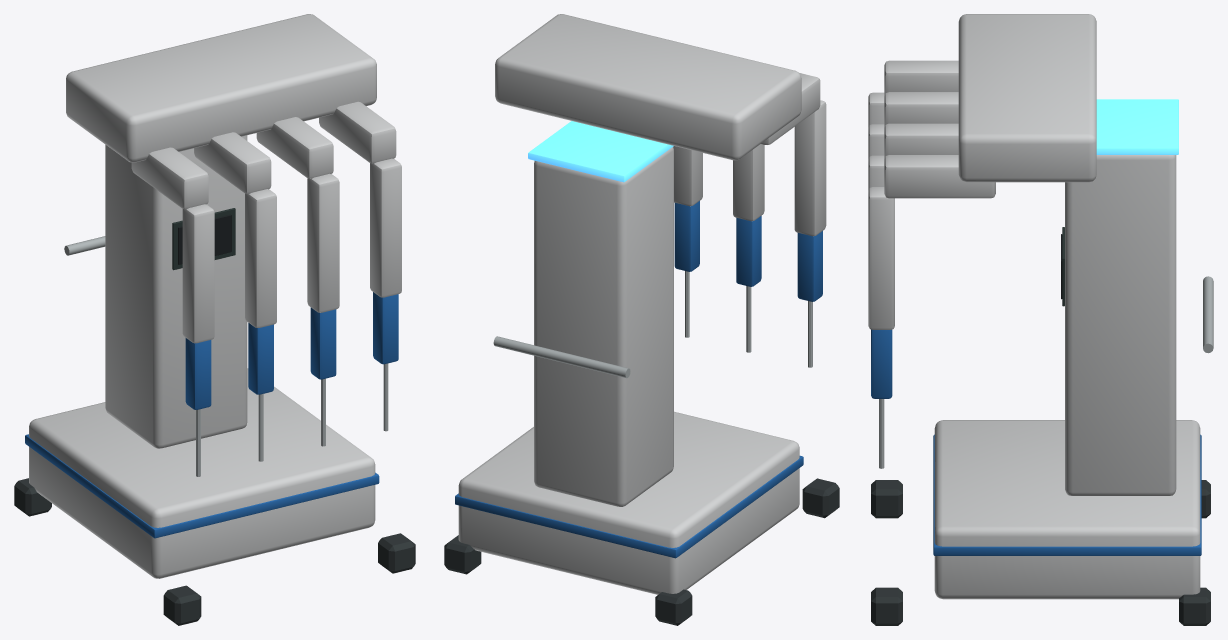
Rendered from sc-robotic-patient-cart.glb.
3 views of the same model, side by side, from view 1: azimuth 30°, elevation 25°; view 2: azimuth 150°, elevation 25°; view 3: azimuth 270°, elevation 25° (orthographic). The views are drawn at different scales.
Visible parts, largest first — view 1: sc-robotic-patient-cart; view 2: sc-robotic-patient-cart; view 3: sc-robotic-patient-cart.
Part boxes in pixels (x1,y1,x2,y2): sc-robotic-patient-cart: (14, 14, 415, 625); sc-robotic-patient-cart: (444, 14, 839, 625); sc-robotic-patient-cart: (868, 14, 1213, 625).
Bounding box in the file's own units: 1.12 × 2.05 × 1.3.
